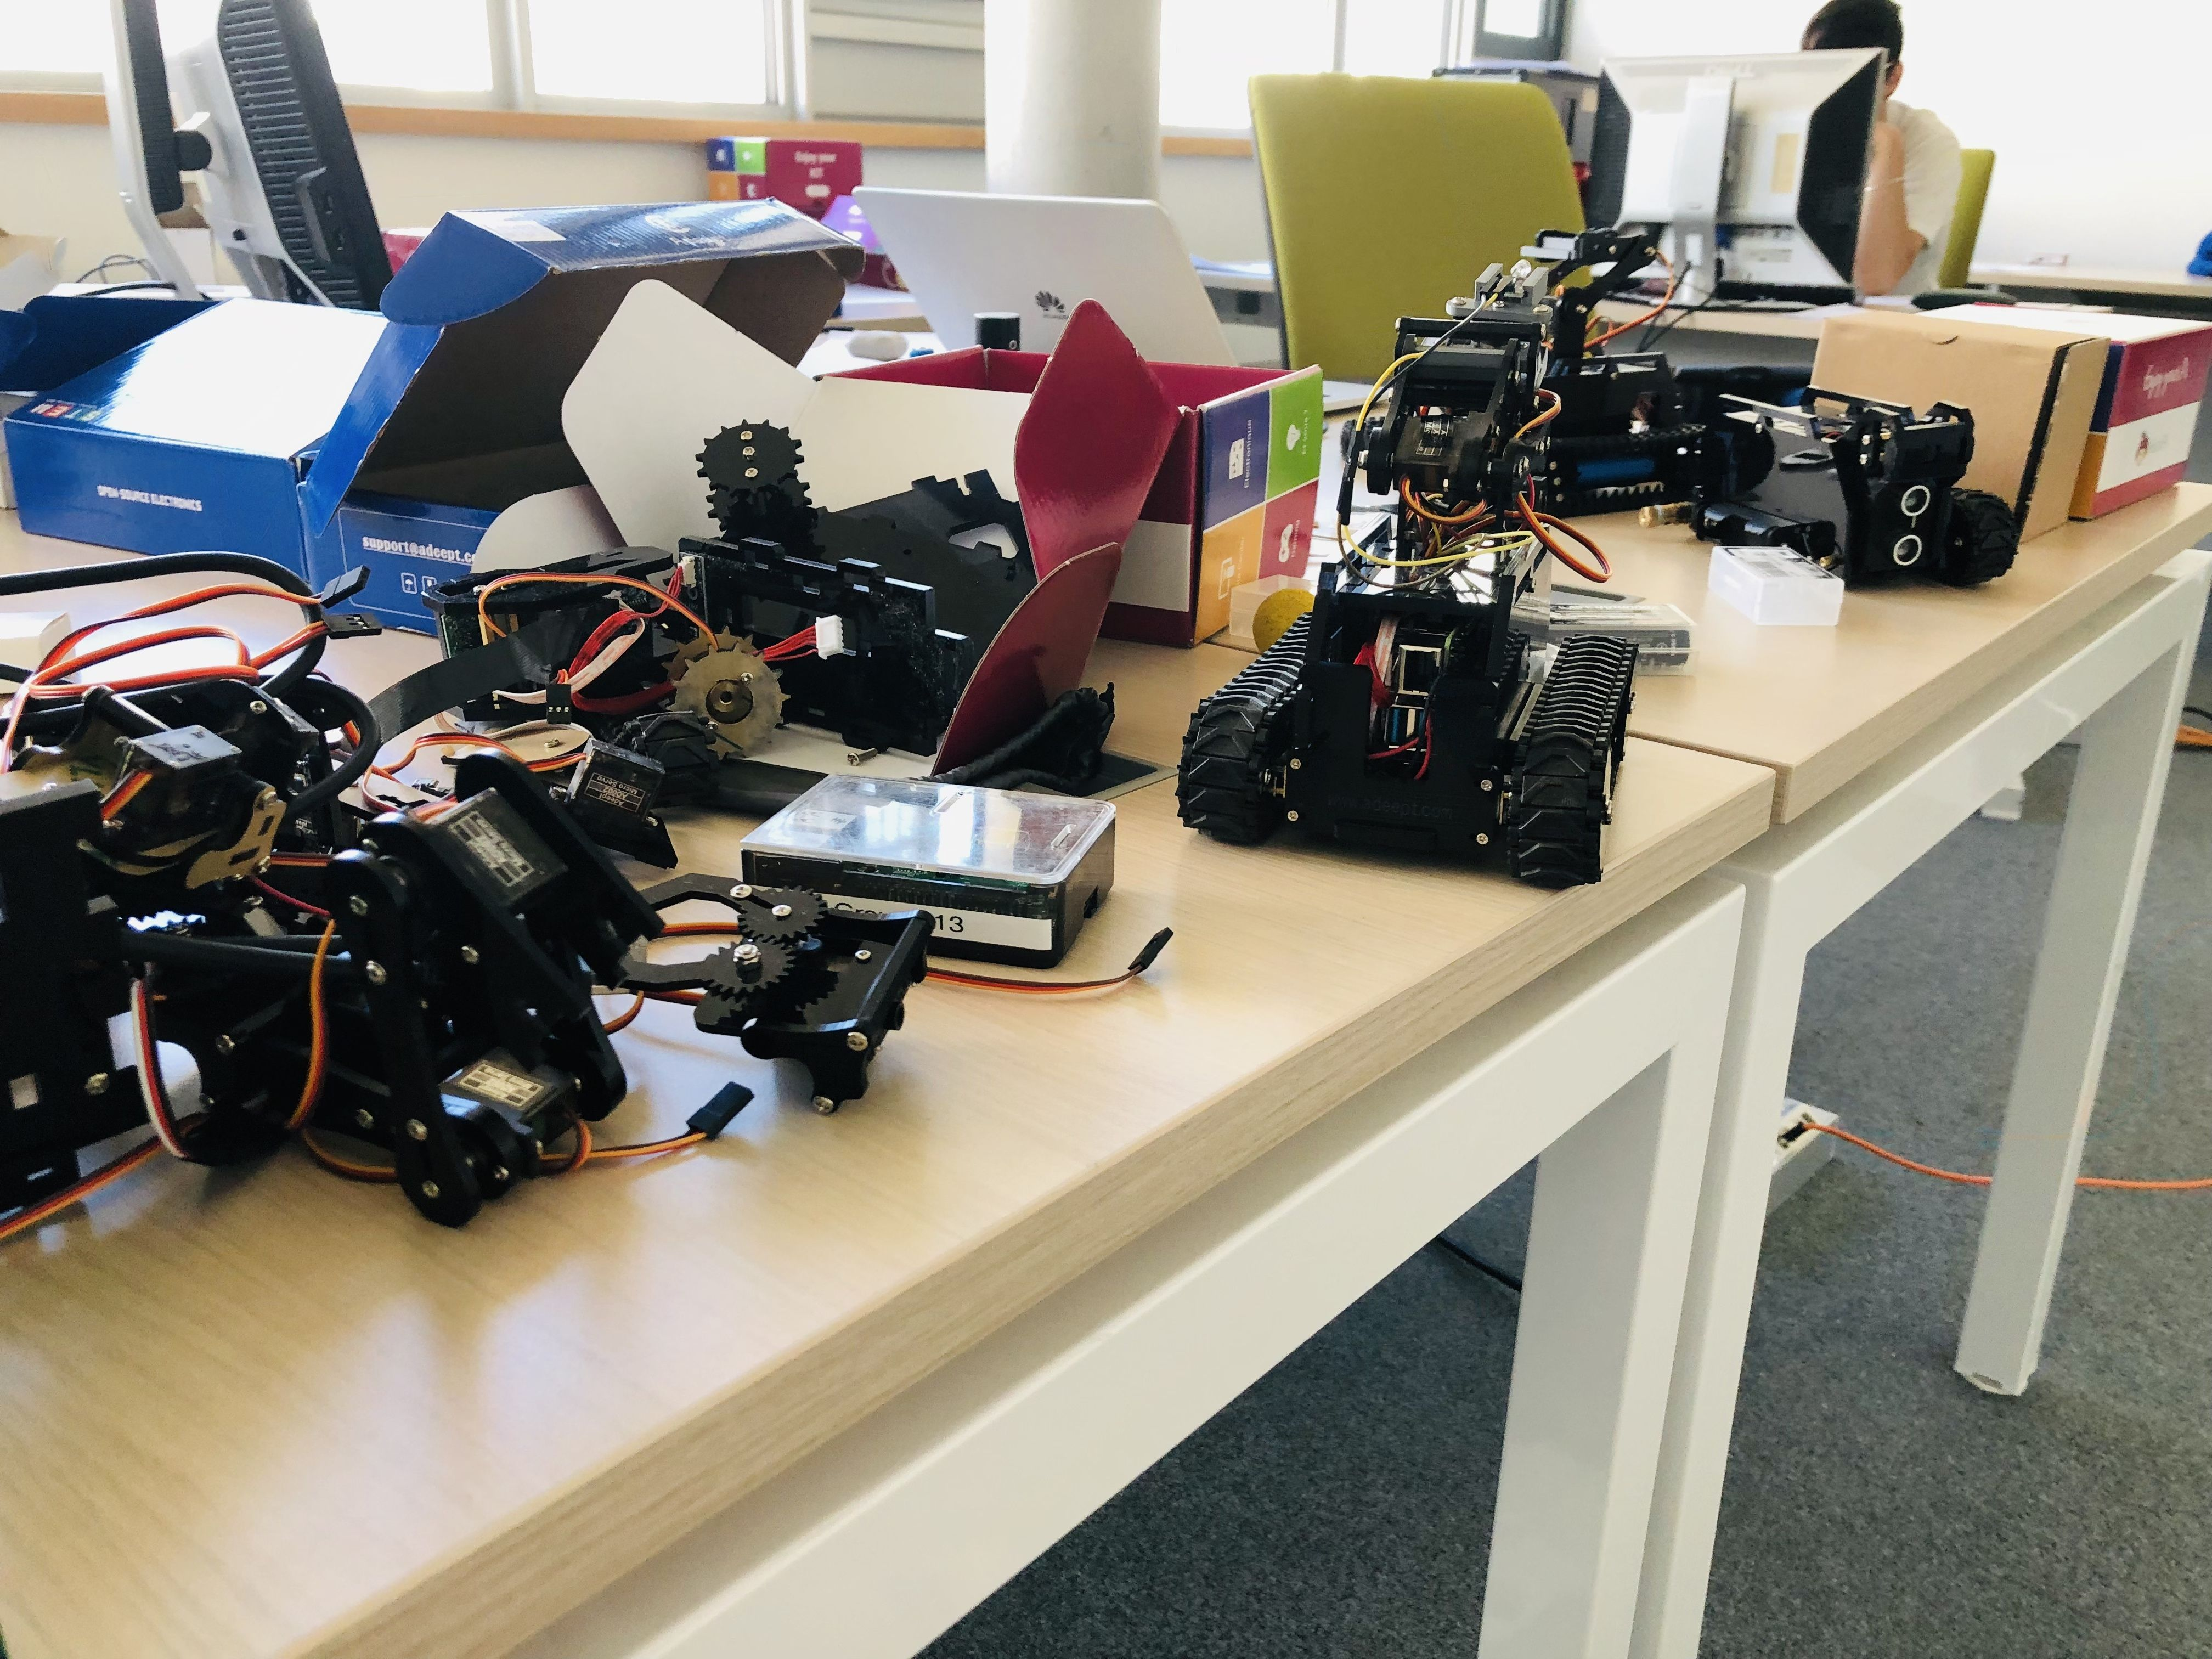rasptank: (1172, 263, 1665, 885)
